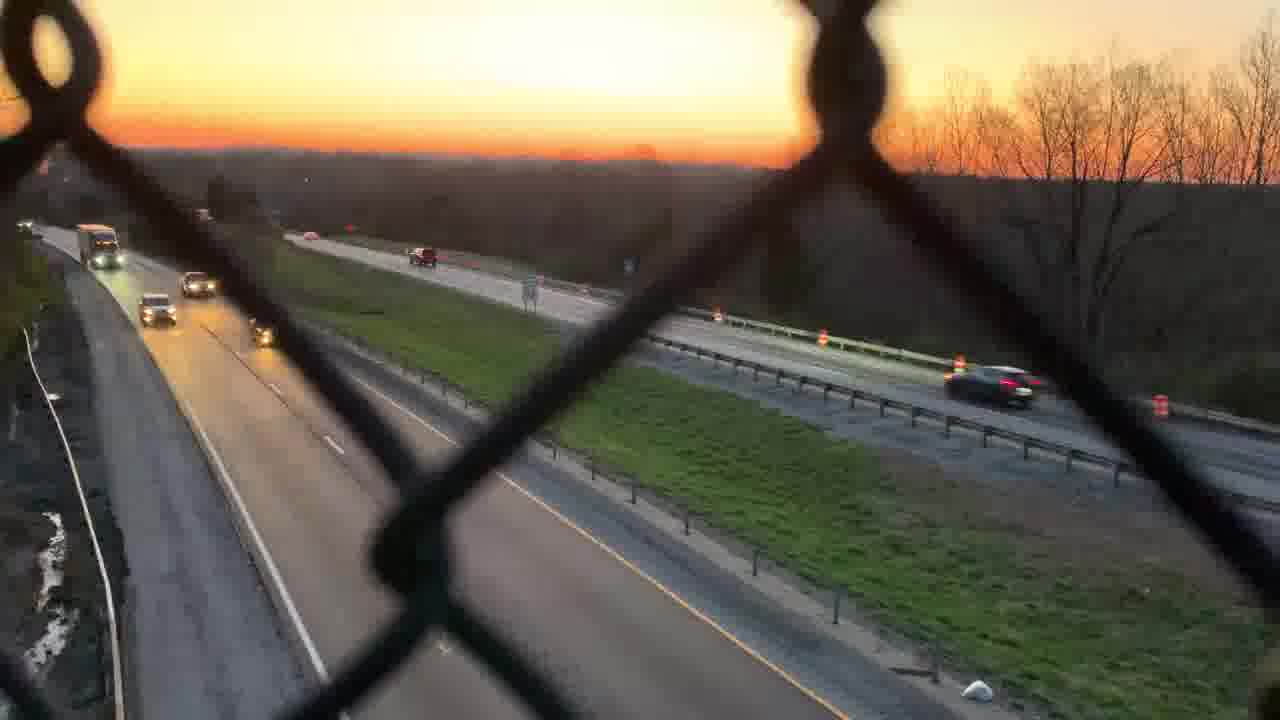heavyTruck: (73, 220, 126, 275)
largeCar: (938, 357, 1045, 406)
